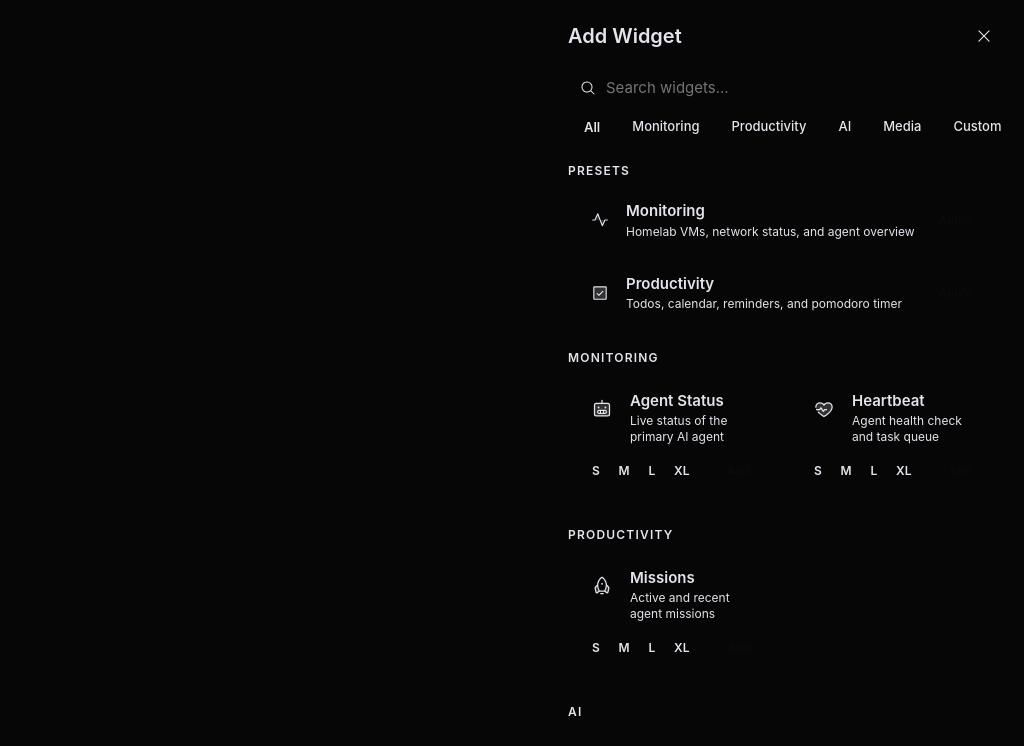
WidgetPicker › clicking a category tab filters to only that category
// Click the "AI" tab
Click the tab "AI": [845, 127] box [822, 108, 867, 146]
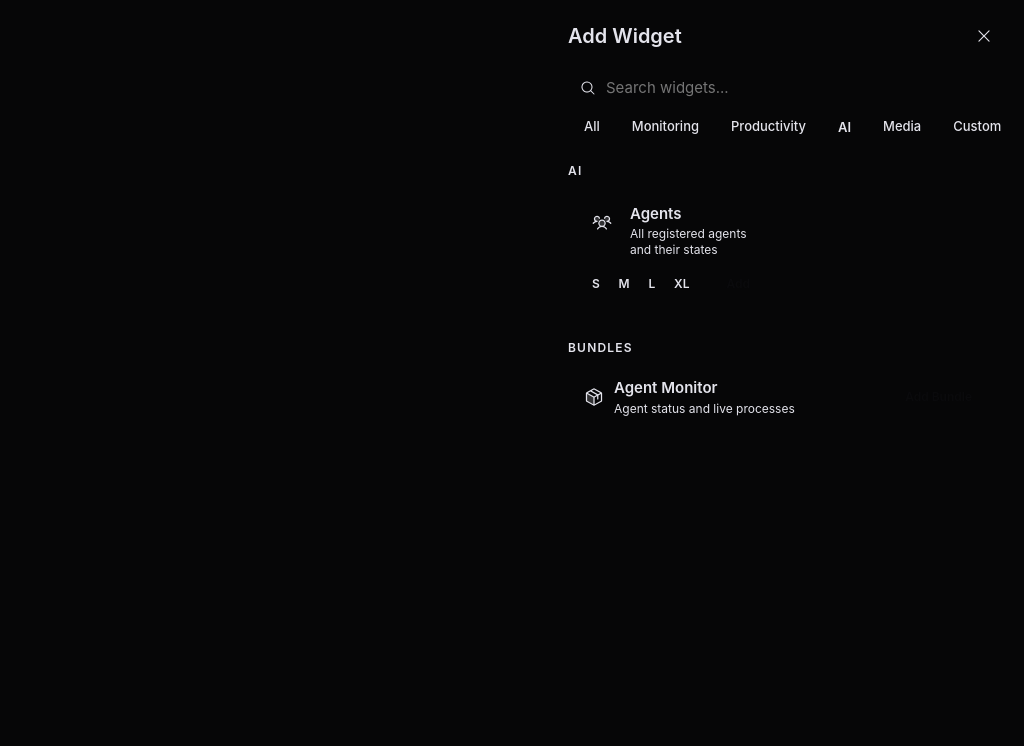
Expected: the text "Agents" is shown, [630, 204, 682, 223]
Now the text "Missions" is gone
